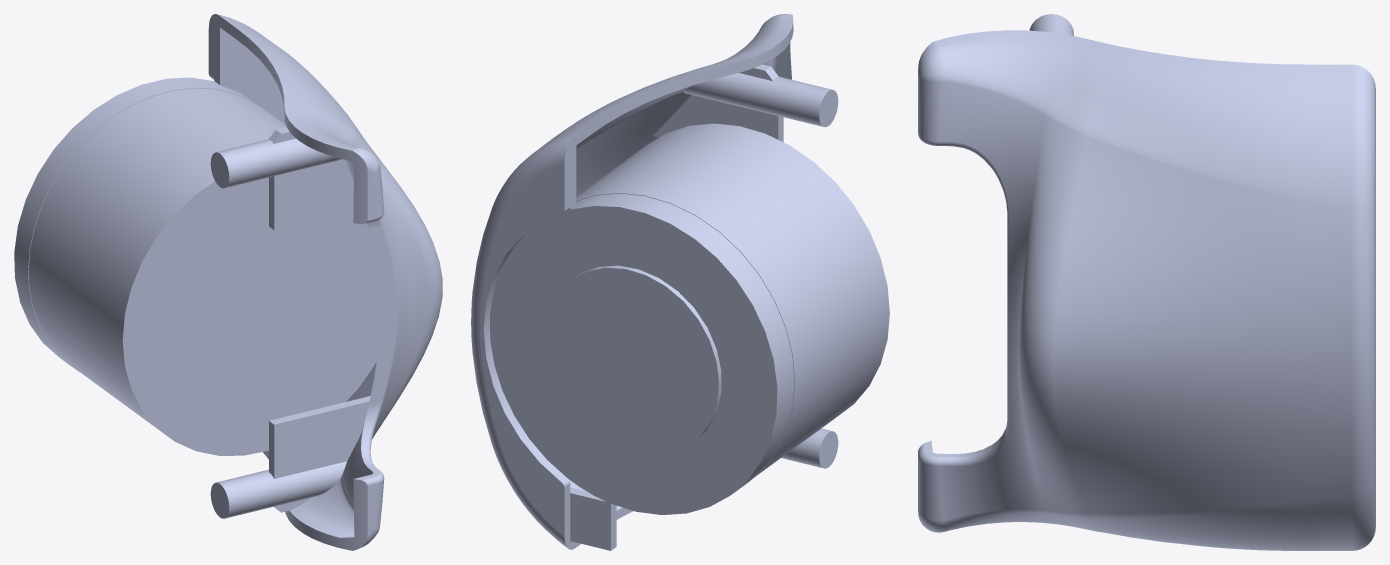
The picture shows the model from 3 angles, left to right: view 1: azimuth 30°, elevation 25°; view 2: azimuth 150°, elevation 25°; view 3: azimuth 270°, elevation 25°; orthographic projection. The views are drawn at different scales.
Parts seen in each view (by area): view 1: Body1; view 2: Body1; view 3: Body1.
Boxes of the visible parts, left/top/right/bottom form: Body1: left=14, top=14, right=442, bottom=550; Body1: left=471, top=14, right=889, bottom=550; Body1: left=918, top=14, right=1375, bottom=550.
Bounding box in the file's own units: 0.061 × 0.0782 × 0.0667.
